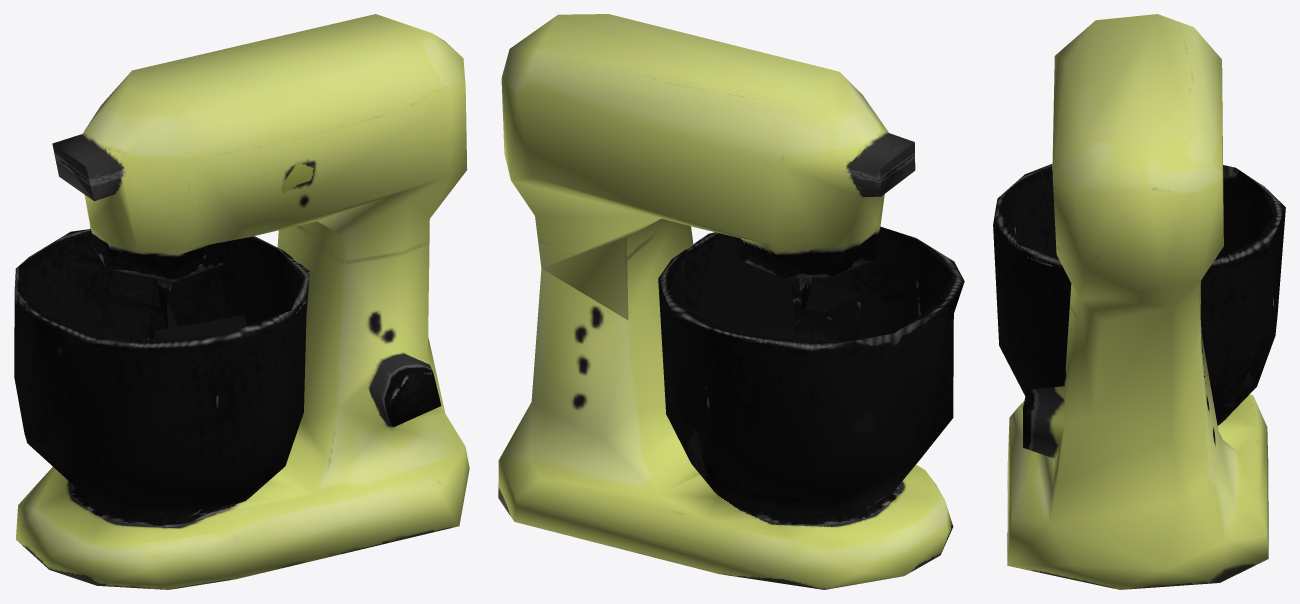
The model's file is supermarket-mixer.glb.
3 views of the same model, side by side, from view 1: azimuth 30°, elevation 25°; view 2: azimuth 150°, elevation 25°; view 3: azimuth 270°, elevation 25° (orthographic). The views are drawn at different scales.
Parts seen in each view (by area): view 1: geometry_0.001; view 2: geometry_0.001; view 3: geometry_0.001.
Part boxes in pixels (box(x1,y1,x2,y2)): geometry_0.001: box(14, 14, 469, 589); geometry_0.001: box(498, 14, 964, 589); geometry_0.001: box(993, 14, 1285, 589).
Size of the model in its own units: 0.9955 by 0.9993 by 0.6137.
1 material, 1 textured.
